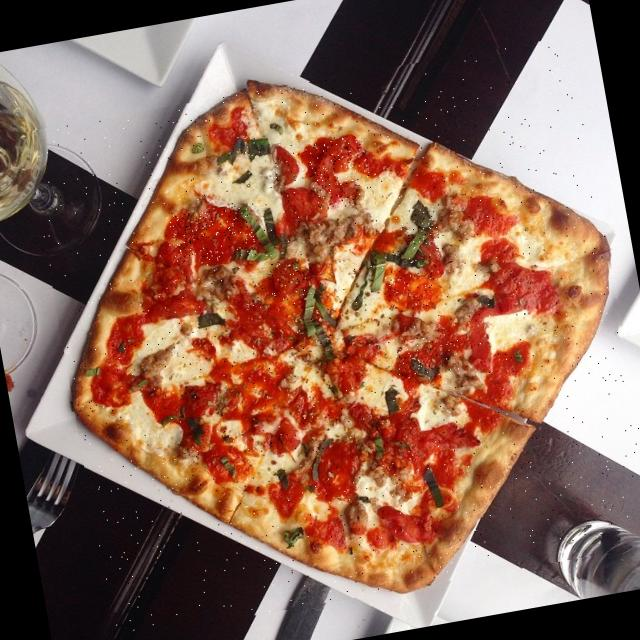Arugula: (296, 294, 346, 364), (395, 204, 443, 264), (236, 133, 274, 160)
Pepperoni: (167, 203, 257, 269), (305, 134, 375, 210), (298, 434, 364, 500), (138, 266, 200, 322), (394, 333, 461, 384), (278, 182, 332, 238), (384, 262, 443, 312), (263, 258, 314, 304), (488, 264, 536, 308), (269, 140, 304, 184)
Pizza: (25, 35, 640, 639)
